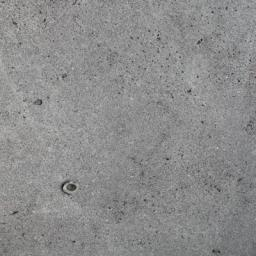FOD: (61, 180, 82, 198)
